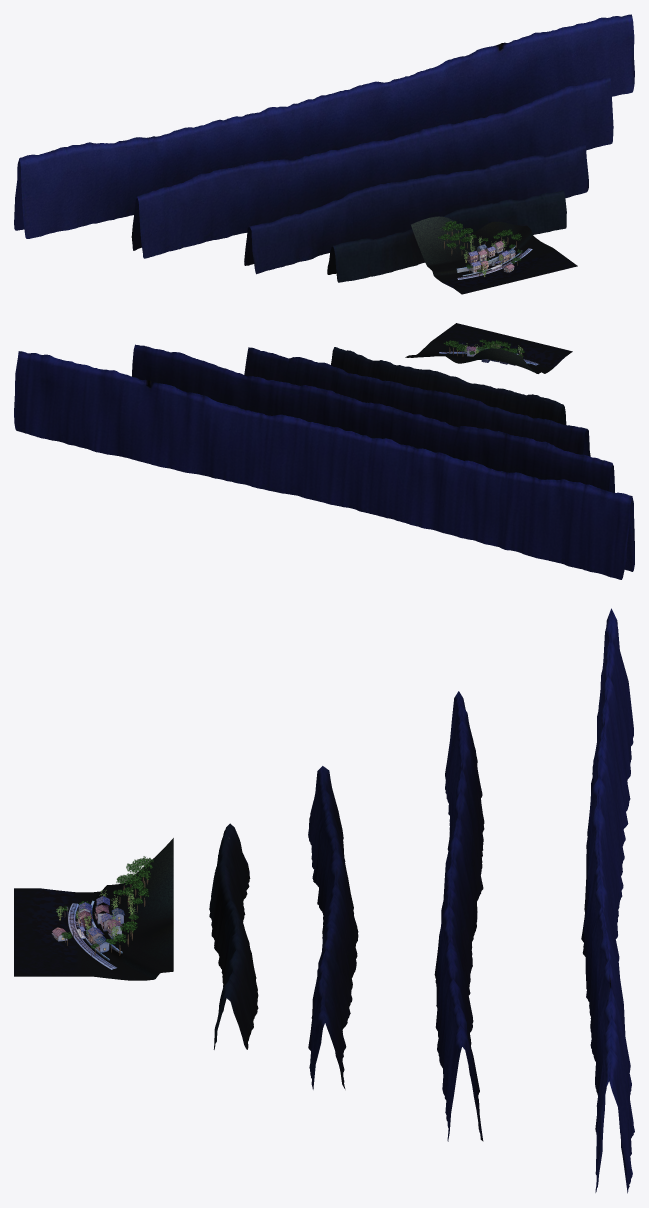
Rendered from town.glb.
3 views of the same model, one above another, from view 1: azimuth 30°, elevation 25°; view 2: azimuth 150°, elevation 25°; view 3: azimuth 270°, elevation 25° (orthographic). The views are drawn at different scales.
Visible parts, largest first — view 1: Static_mountains, Static_ground, Static_houses; view 2: Static_mountains, Static_ground; view 3: Static_mountains, Static_ground, Static_houses.
Part boxes in pixels (bbox=[...]): Static_mountains: bbox=[14, 14, 634, 282]; Static_ground: bbox=[411, 216, 577, 294]; Static_houses: bbox=[466, 241, 515, 273]; Static_mountains: bbox=[14, 344, 634, 579]; Static_ground: bbox=[405, 323, 572, 373]; Static_mountains: bbox=[209, 608, 634, 1193]; Static_ground: bbox=[14, 838, 173, 980]; Static_houses: bbox=[51, 896, 125, 952].
Bounding box in the file's own units: 400 × 50.2 × 226.
7 materials, 4 textured.
